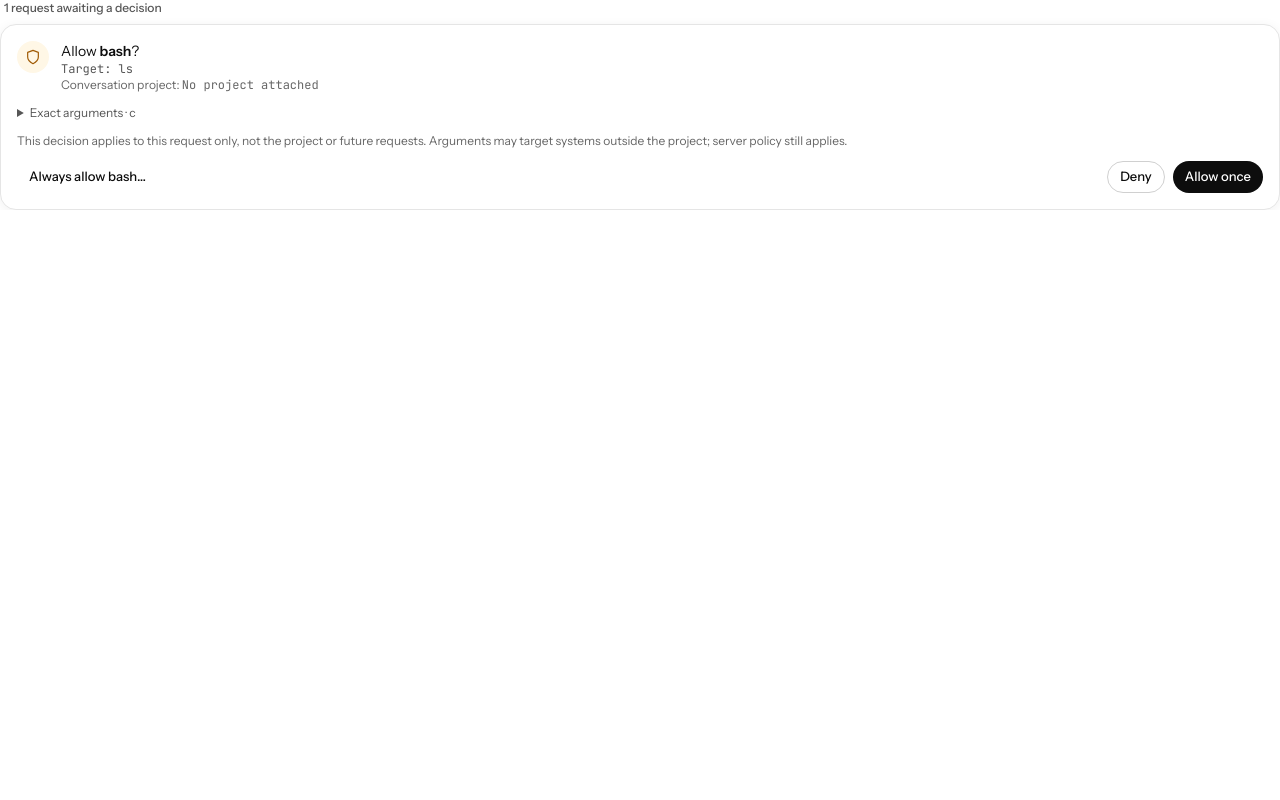
Test: always-allow approval flow › persists the policy change and answers the approval on confirm
This screenshot has width=1280, height=800.
Click the button "Always allow bash…" at x=88, y=177, box [17,161,158,193]
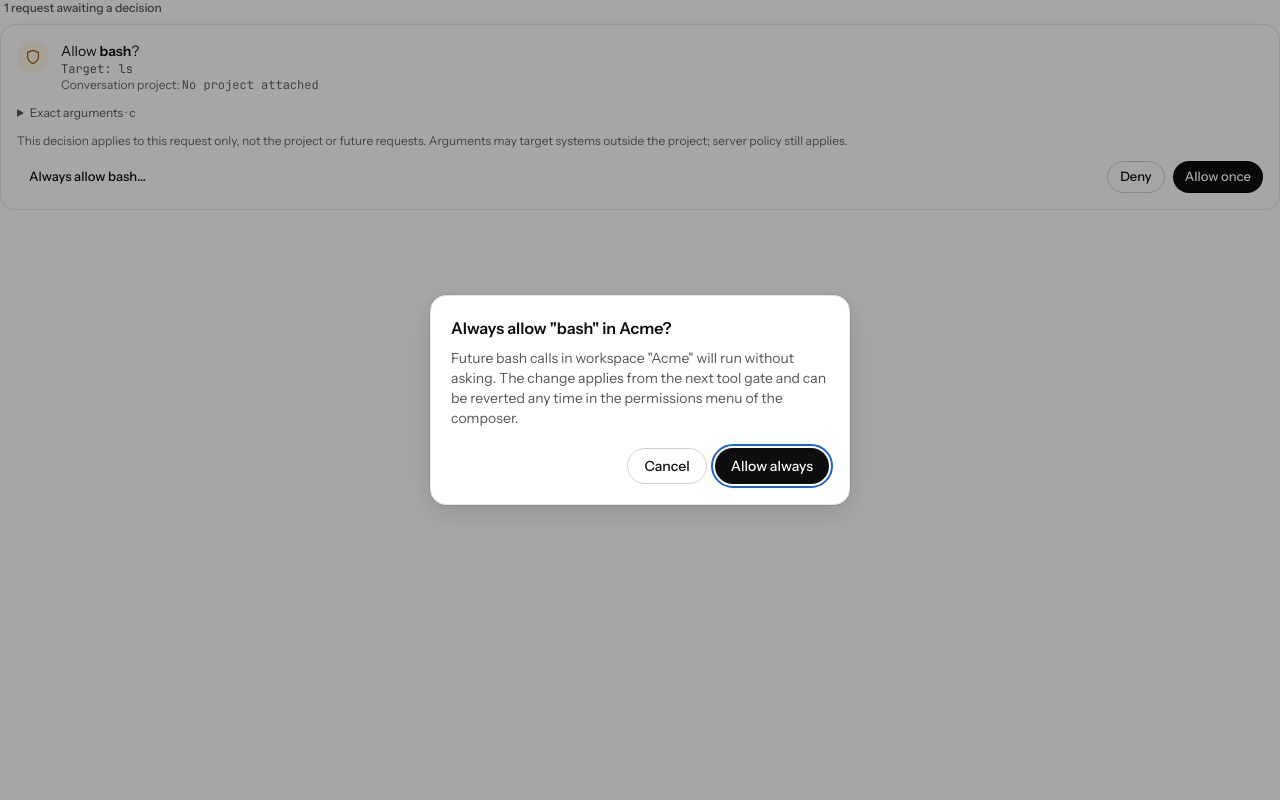
Check: the text "Always allow \"bash\" in Acme?" is shown, box [451,318,672,338]
Click the button "Allow always" at x=772, y=466, box [715,448,829,484]
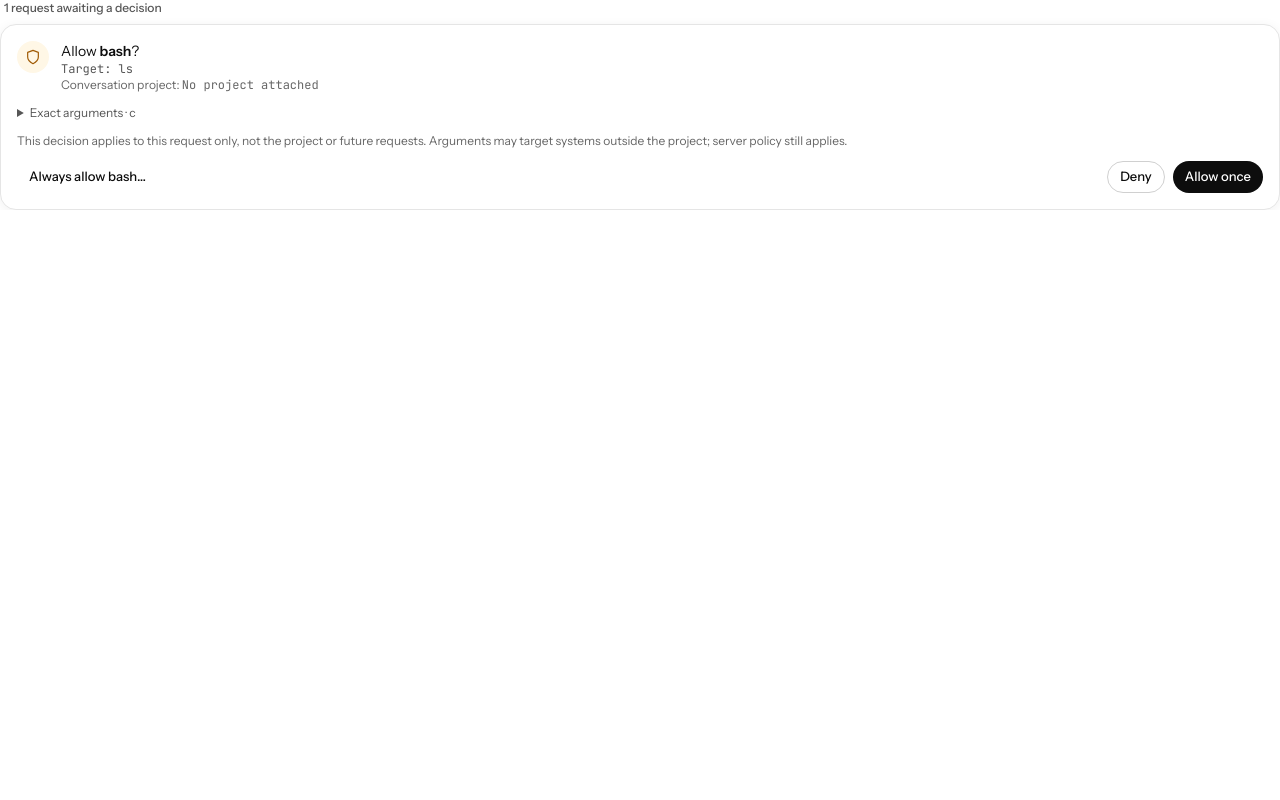
Check: the text "Always allow \"bash\" in Acme?" is gone
